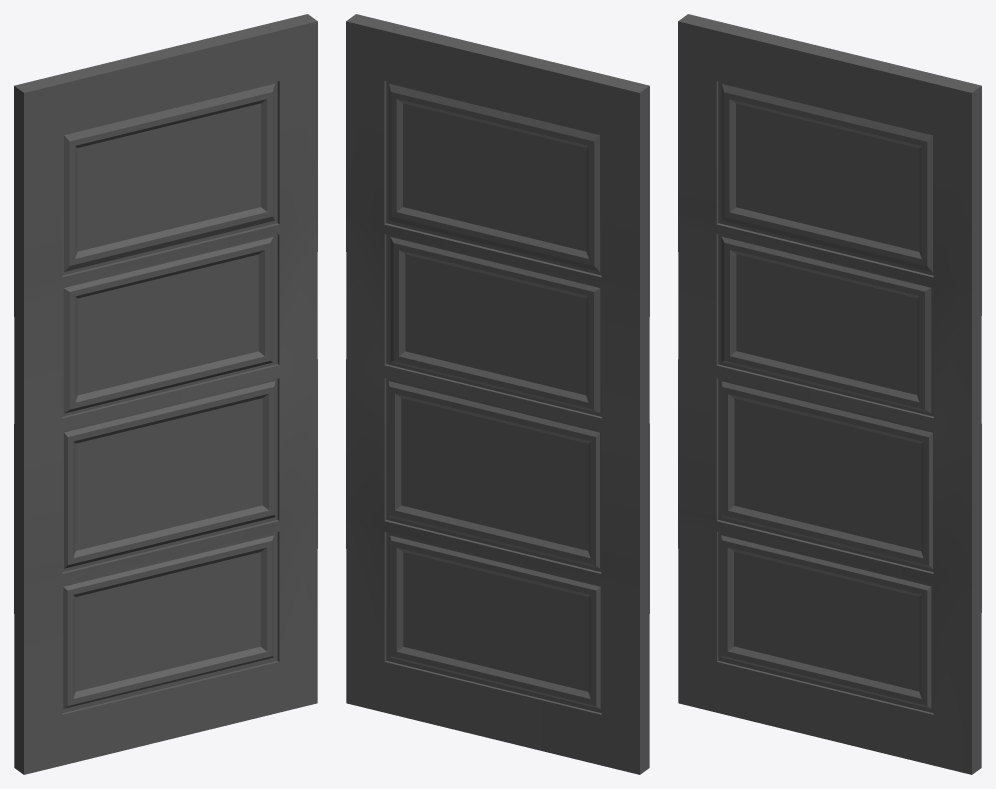
The model's file is Doorway_Double_7_doorway_door_7_1.obj.
3 views of the same model, side by side, from view 1: azimuth 30°, elevation 25°; view 2: azimuth 150°, elevation 25°; view 3: azimuth 330°, elevation 25° (orthographic).
Bounding box in the file's own units: 0.916 × 2.03 × 0.0542.
